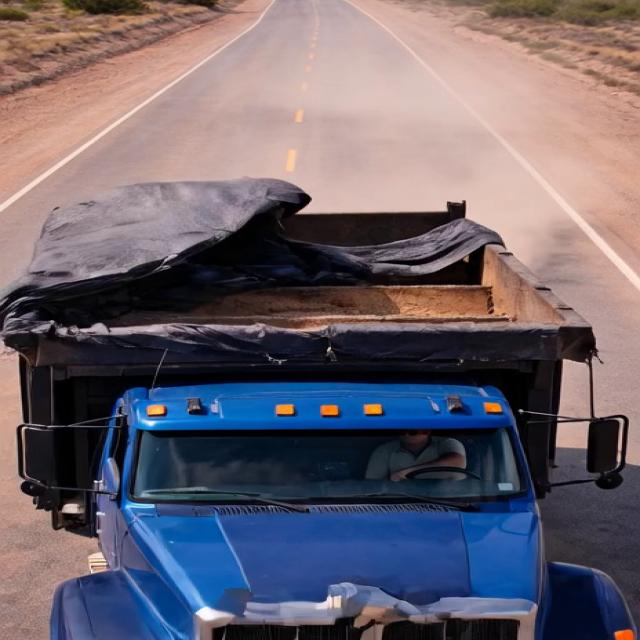Box: (11, 172, 596, 352)
Truck: (7, 136, 627, 635)
